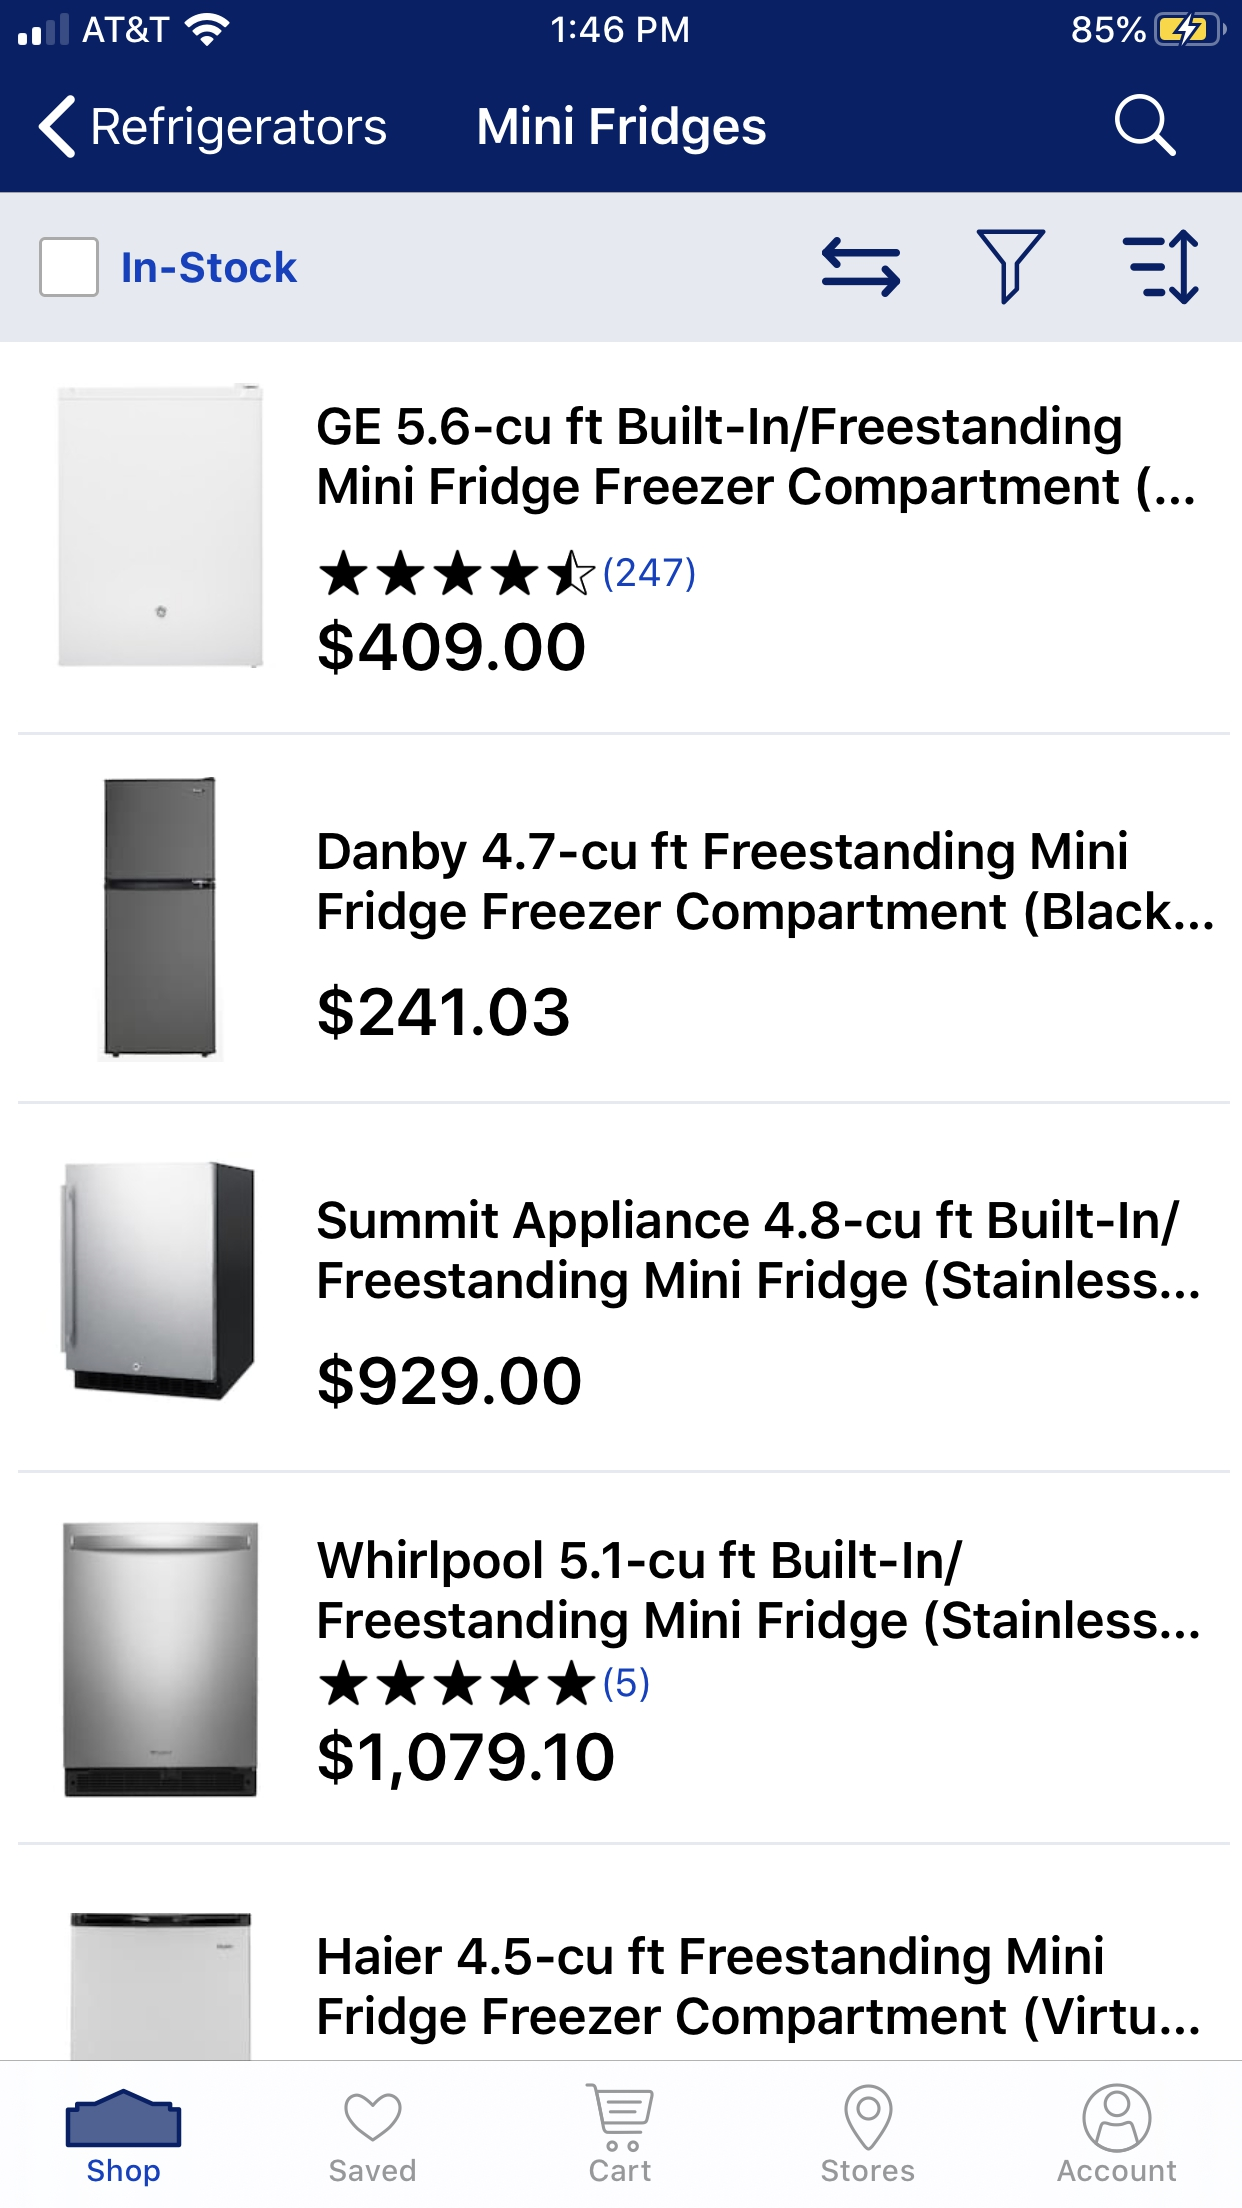CheckedTextView: (39, 237, 299, 299)
Icon: (320, 550, 596, 597), (318, 1661, 596, 1706), (1124, 229, 1200, 305), (1081, 2084, 1153, 2153), (822, 238, 901, 299), (585, 2084, 654, 2152), (1115, 96, 1175, 158), (845, 2085, 893, 2150), (346, 2094, 402, 2141), (39, 96, 76, 159)
Image: (61, 384, 264, 669), (64, 1523, 258, 1797), (61, 1162, 255, 1400), (105, 778, 217, 1059), (71, 1912, 252, 2059), (67, 2088, 182, 2147), (977, 231, 1046, 306)
Text: (320, 830, 1213, 940), (318, 405, 1193, 516), (318, 1539, 1200, 1648), (320, 1200, 1200, 1309), (320, 1935, 1200, 2043), (318, 1729, 614, 1791), (320, 1353, 581, 1410), (318, 620, 585, 676), (478, 105, 766, 156), (93, 106, 387, 155), (318, 986, 569, 1040), (123, 252, 299, 285), (604, 557, 695, 593), (1057, 2159, 1175, 2181), (88, 2159, 161, 2187), (822, 2159, 914, 2181), (331, 2159, 416, 2181), (604, 1667, 649, 1701), (590, 2159, 651, 2181)
UpperTaskBar: (2, 2, 1242, 49)
